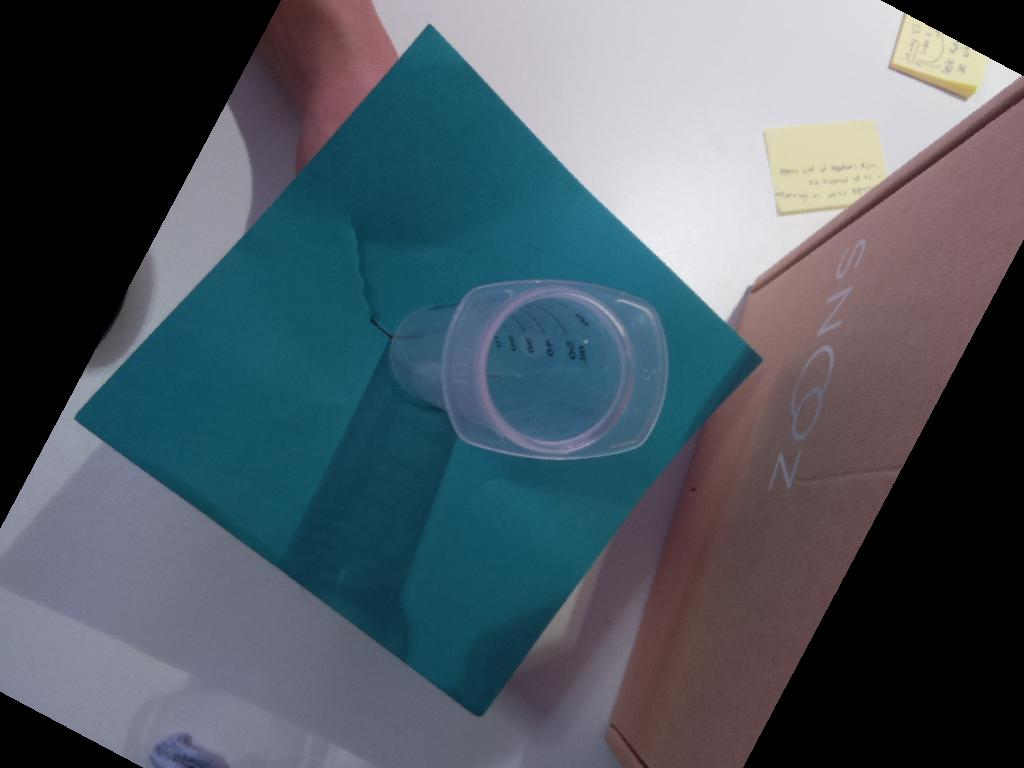clean: (440, 275, 672, 463)
